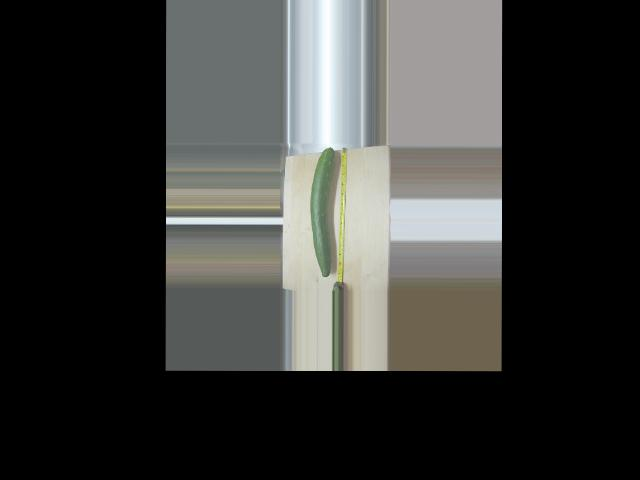cucumber: (310, 147, 335, 277)
